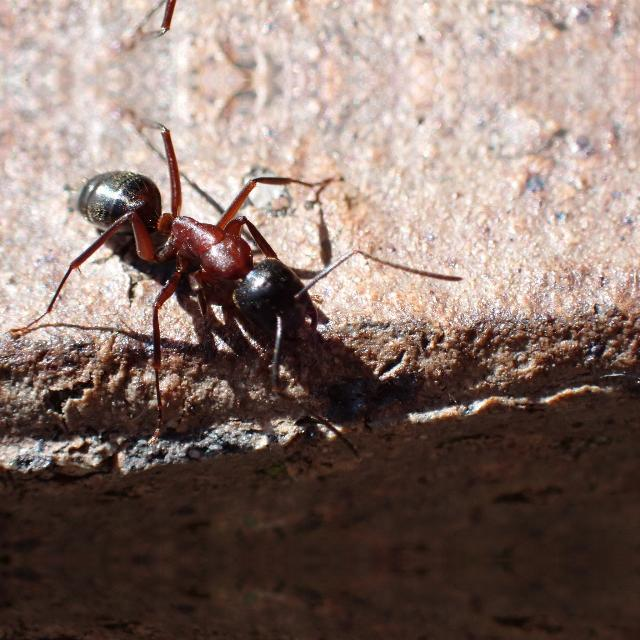Camponotus: (48, 140, 348, 346)
